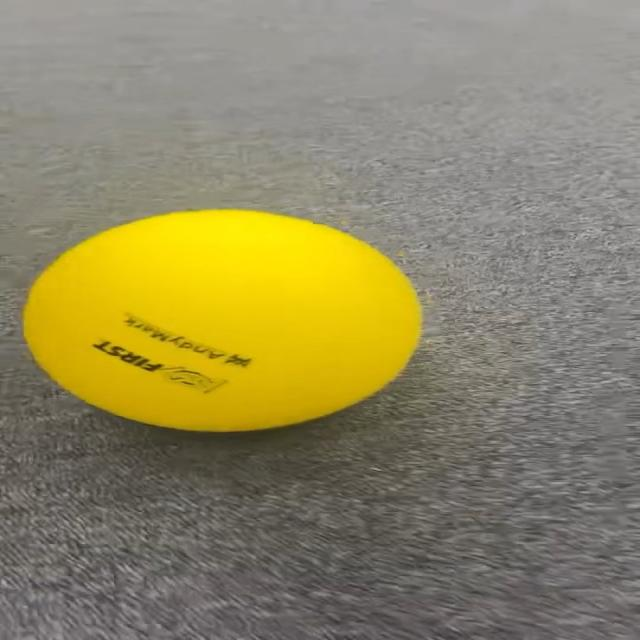Fuels: (24, 211, 423, 428)
